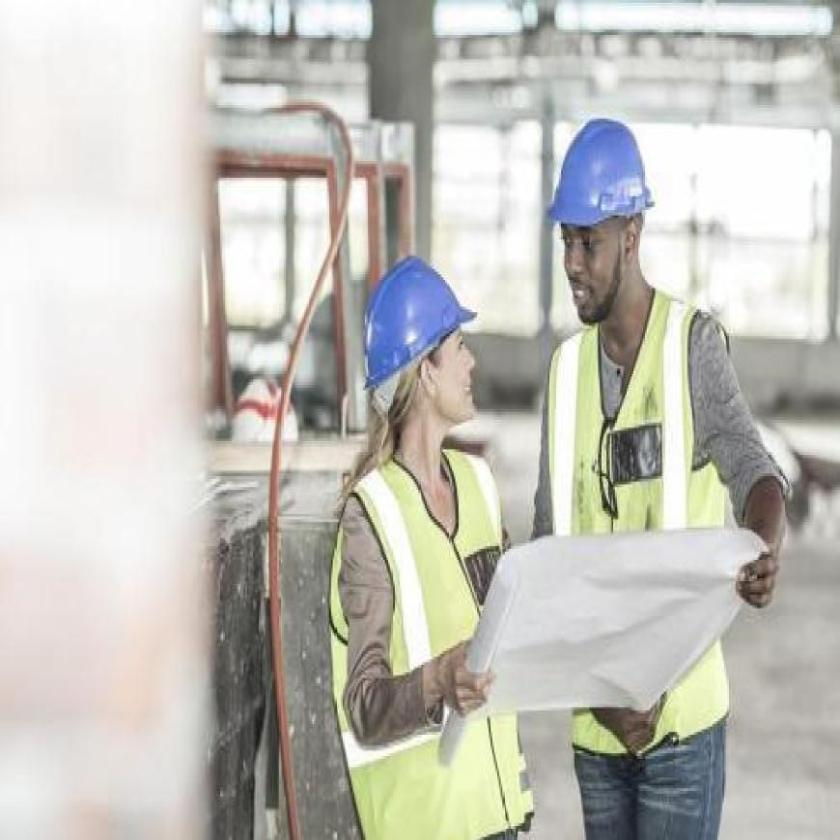Con_casco: (541, 118, 655, 321), (359, 263, 482, 437)
